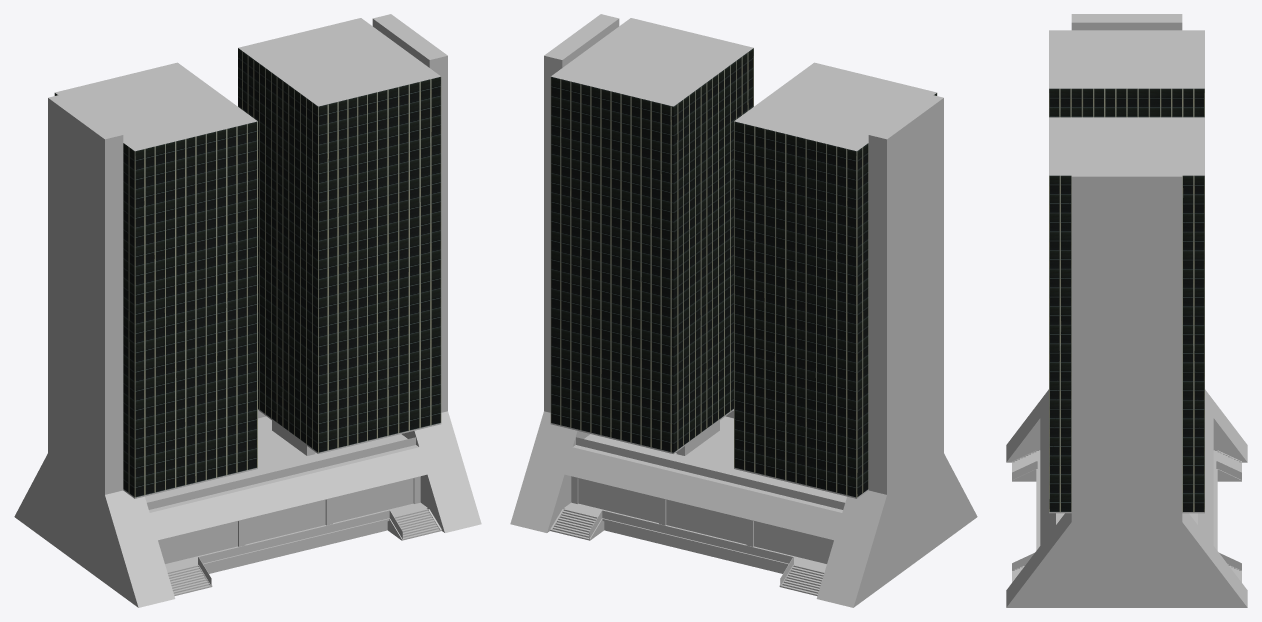
3 views of the same model, side by side, from view 1: azimuth 30°, elevation 25°; view 2: azimuth 150°, elevation 25°; view 3: azimuth 270°, elevation 25° (orthographic). The views are drawn at different scales.
Parts seen in each view (by area): view 1: BC-048; view 2: BC-048; view 3: BC-048.
Part boxes in pixels (x1,y1,x2,y2): BC-048: (14,14,481,607); BC-048: (510,14,977,607); BC-048: (1006,14,1247,607).
Size of what is drawn, in the model's own units: 56 by 69.23 by 35.15.
